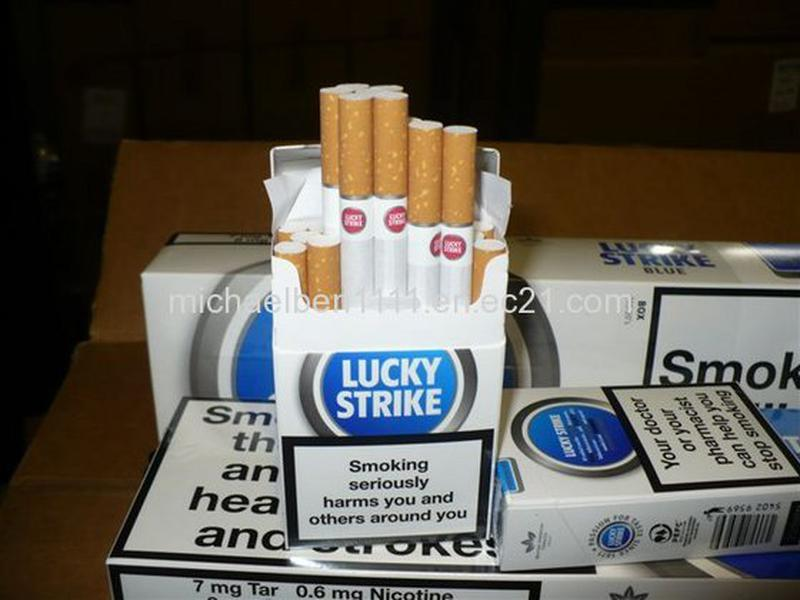lucky_strike_blue: (281, 271, 491, 536), (507, 390, 744, 501)
